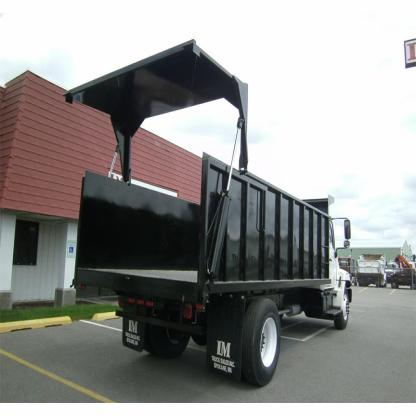dump_truck: (70, 61, 371, 399)
